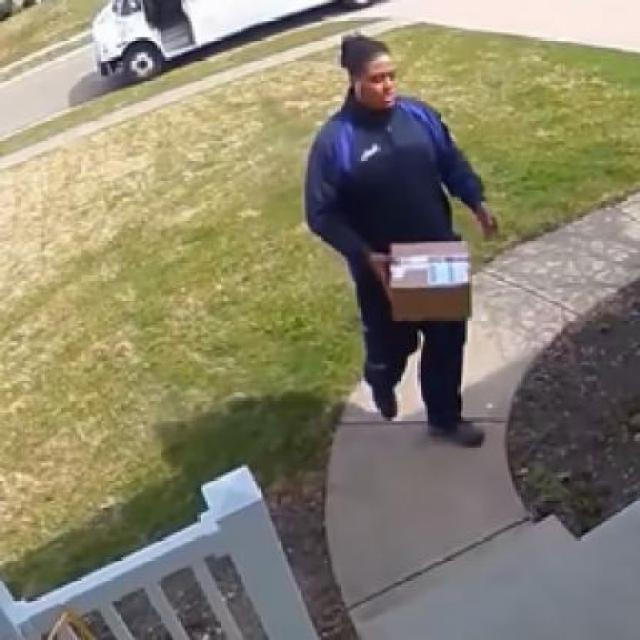Manusia: (300, 20, 495, 463)
